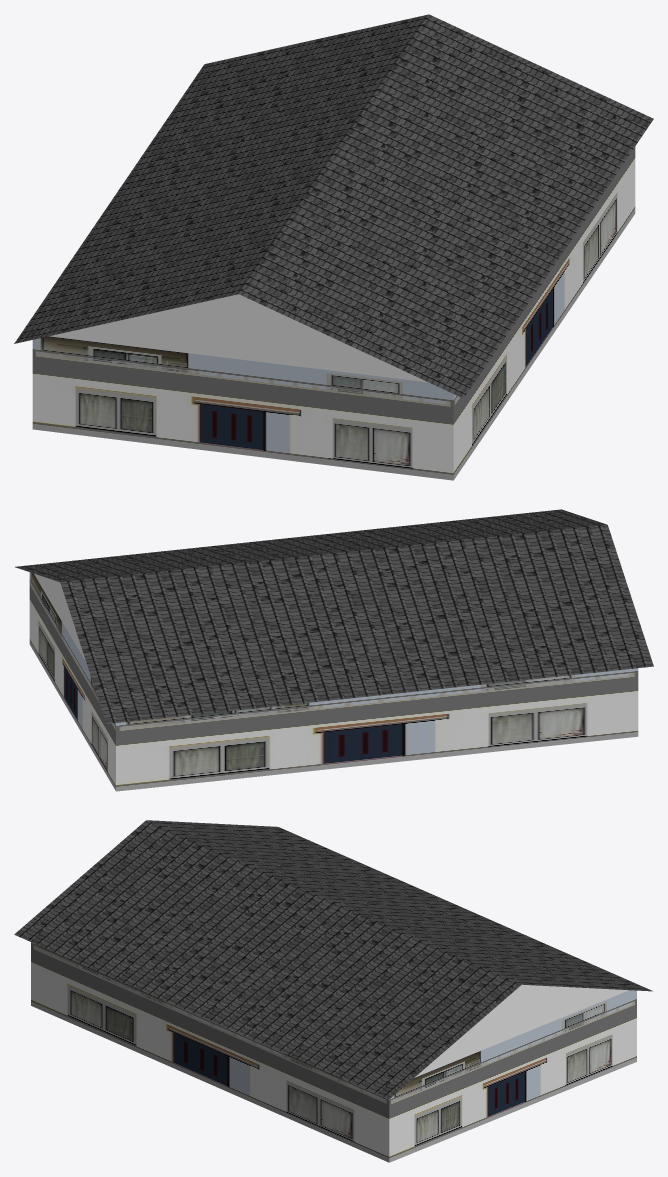
3 views of the same model, one above another, from view 1: azimuth 30°, elevation 25°; view 2: azimuth 150°, elevation 25°; view 3: azimuth 270°, elevation 25° (orthographic). The views are drawn at different scales.
Visible parts, largest first — view 1: CityEngineMaterial_8_m, CityEngineMaterial_7_m, CityEngineMaterial_3_m; view 2: CityEngineMaterial_8_m, CityEngineMaterial_7_m, CityEngineMaterial_3_m; view 3: CityEngineMaterial_8_m, CityEngineMaterial_7_m, CityEngineMaterial_3_m.
Part boxes in pixels (x1,y1,x2,y2): CityEngineMaterial_8_m: (14, 14, 653, 398); CityEngineMaterial_7_m: (32, 147, 635, 480); CityEngineMaterial_3_m: (49, 294, 427, 382); CityEngineMaterial_8_m: (15, 509, 653, 723); CityEngineMaterial_7_m: (29, 572, 638, 791); CityEngineMaterial_3_m: (34, 573, 86, 662); CityEngineMaterial_8_m: (14, 820, 652, 1098); CityEngineMaterial_7_m: (31, 942, 636, 1162); CityEngineMaterial_3_m: (414, 984, 628, 1077).
Bounding box in the file's own units: 51.57 × 11.6 × 51.22.
